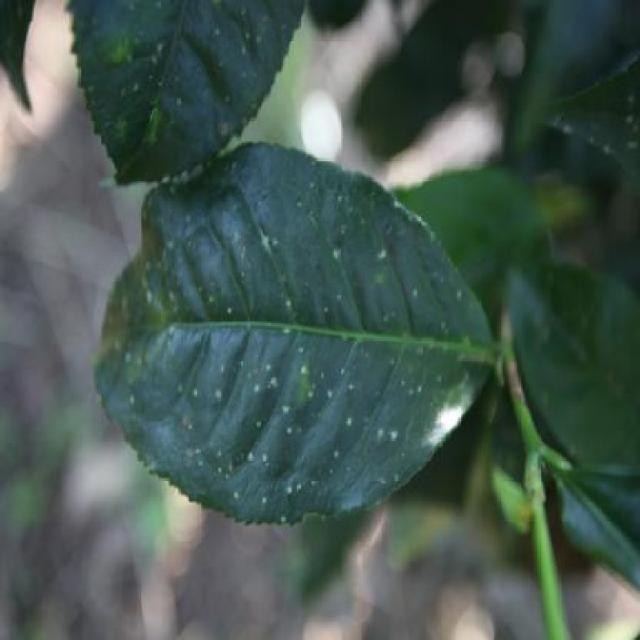White spot of tea: (91, 149, 537, 528)
